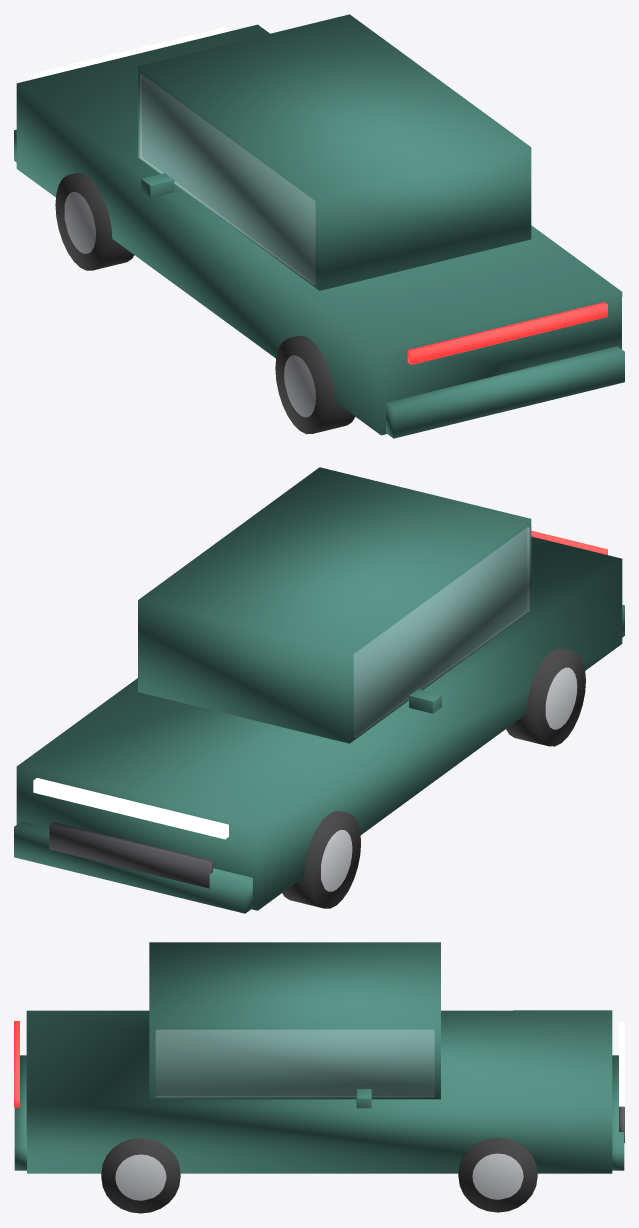
Rendered from vehicle.glb.
3 views of the same model, one above another, from view 1: azimuth 30°, elevation 25°; view 2: azimuth 150°, elevation 25°; view 3: azimuth 270°, elevation 25° (orthographic). The views are drawn at different scales.
Parts seen in each view (by area): view 1: BODY_Roof, BODY_Main, GLASS_Greenhouse, BODY_Bumpers_Rear, WHEEL_RR_Tire, WHEEL_FR_Tire, LIGHT_Taillights, WHEEL_RR_Alloy, WHEEL_FR_Alloy, LIGHT_Headlights, BODY_Mirror_R; view 2: BODY_Roof, BODY_Main, GLASS_Greenhouse, BODY_Bumpers_Front, BODY_Grille, WHEEL_RR_Tire, WHEEL_FR_Tire, LIGHT_Headlights, WHEEL_RR_Alloy, WHEEL_FR_Alloy, BODY_Mirror_R; view 3: BODY_Main, BODY_Roof, GLASS_Greenhouse, WHEEL_RL_Tire, WHEEL_FL_Tire, WHEEL_RL_Alloy, WHEEL_FL_Alloy, BODY_Bumpers_Rear, BODY_Bumpers_Front, LIGHT_Taillights, LIGHT_Headlights.
Part boxes in pixels (left/top/right/bottom): BODY_Roof: left=138, top=14, right=531, bottom=290; BODY_Main: left=16, top=24, right=622, bottom=435; GLASS_Greenhouse: left=139, top=74, right=315, bottom=284; BODY_Bumpers_Rear: left=386, top=346, right=624, bottom=438; WHEEL_RR_Tire: left=275, top=336, right=355, bottom=434; WHEEL_FR_Tire: left=55, top=173, right=134, bottom=270; LIGHT_Taillights: left=407, top=302, right=607, bottom=364; WHEEL_RR_Alloy: left=284, top=355, right=315, bottom=417; WHEEL_FR_Alloy: left=64, top=192, right=95, bottom=253; LIGHT_Headlights: left=33, top=27, right=228, bottom=79; BODY_Mirror_R: left=141, top=173, right=174, bottom=197; BODY_Roof: left=138, top=467, right=531, bottom=743; BODY_Main: left=16, top=536, right=622, bottom=910; GLASS_Greenhouse: left=354, top=527, right=529, bottom=737; BODY_Bumpers_Front: left=14, top=821, right=252, bottom=913; BODY_Grille: left=49, top=822, right=212, bottom=888; WHEEL_RR_Tire: left=506, top=648, right=585, bottom=746; WHEEL_FR_Tire: left=282, top=811, right=360, bottom=908; LIGHT_Headlights: left=33, top=778, right=228, bottom=839; WHEEL_RR_Alloy: left=545, top=667, right=577, bottom=729; WHEEL_FR_Alloy: left=321, top=830, right=352, bottom=891; BODY_Mirror_R: left=409, top=689, right=441, bottom=713; BODY_Main: left=26, top=1010, right=612, bottom=1173; BODY_Roof: left=149, top=942, right=440, bottom=1099; GLASS_Greenhouse: left=156, top=1030, right=434, bottom=1097; WHEEL_RL_Tire: left=101, top=1137, right=180, bottom=1213; WHEEL_FL_Tire: left=458, top=1138, right=537, bottom=1212; WHEEL_RL_Alloy: left=115, top=1154, right=166, bottom=1200; WHEEL_FL_Alloy: left=472, top=1153, right=523, bottom=1199; BODY_Bumpers_Rear: left=14, top=1055, right=26, bottom=1170; BODY_Bumpers_Front: left=612, top=1055, right=624, bottom=1170; LIGHT_Taillights: left=14, top=1021, right=19, bottom=1107; LIGHT_Headlights: left=619, top=1021, right=624, bottom=1106.
Size of the model in its own units: 2.18 by 1.59 by 4.93.
